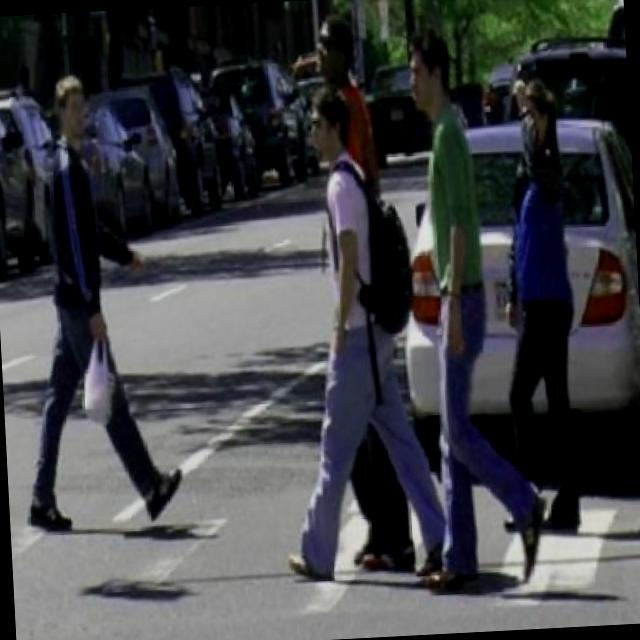Person: (263, 86, 454, 585), (0, 67, 189, 537), (395, 21, 553, 582), (491, 67, 592, 539)
